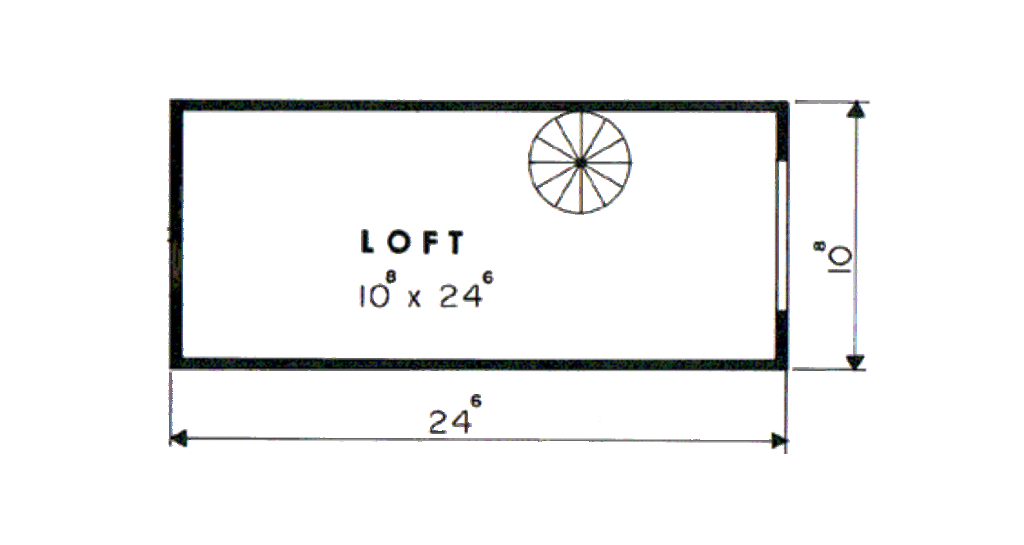stairs: (520, 104, 640, 218)
